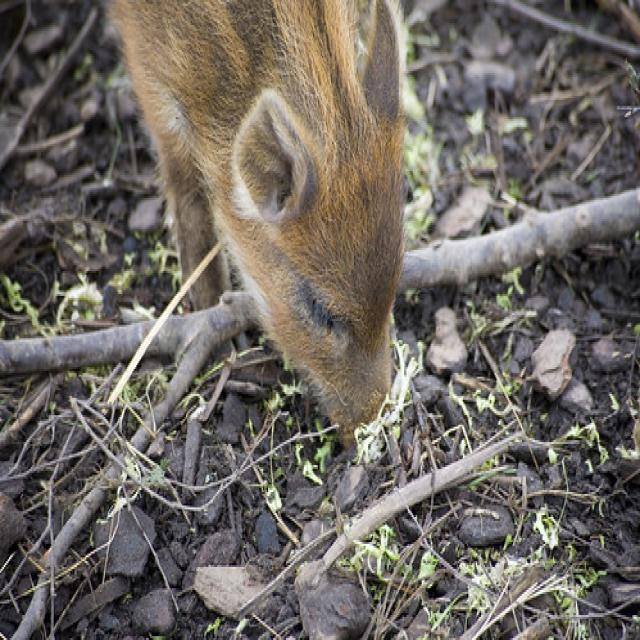boar: (70, 0, 488, 479)
